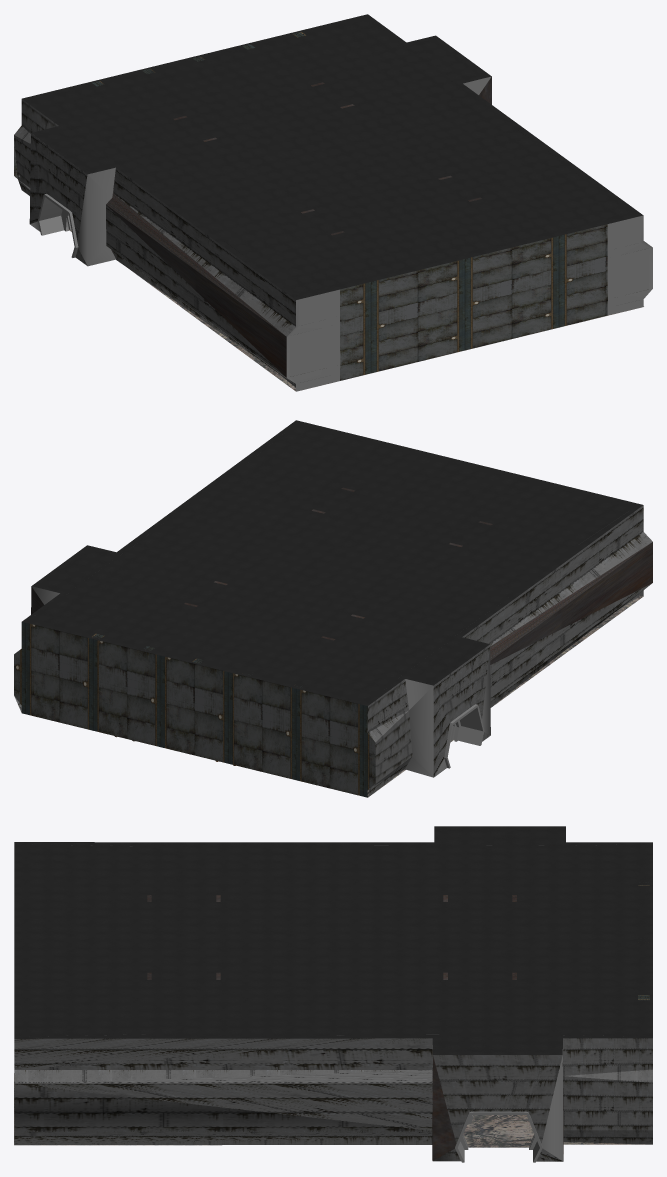
The model's file is mantenimiento.obj.
3 views of the same model, one above another, from view 1: azimuth 30°, elevation 25°; view 2: azimuth 150°, elevation 25°; view 3: azimuth 270°, elevation 25° (orthographic). The views are drawn at different scales.
Parts seen in each view (by area): view 1: mantenimiento1:polySurface2189, mantenimiento1:polySurface2, mantenimiento1:polySurface10, mantenimiento1:polySurface163, mantenimiento1:pPlane1; view 2: mantenimiento1:polySurface2189, mantenimiento1:polySurface7, mantenimiento1:polySurface10, mantenimiento1:polySurface163, mantenimiento1:pPlane1; view 3: mantenimiento1:polySurface2189, mantenimiento1:polySurface3, mantenimiento1:pPlane1, mantenimiento1:polySurface163.
Part boxes in pixels (x1,y1,x2,y2): mantenimiento1:polySurface2189: (22,14,643,299); mantenimiento1:polySurface2: (286,215,652,391); mantenimiento1:polySurface10: (14,99,295,387); mantenimiento1:polySurface163: (38,194,78,257); mantenimiento1:pPlane1: (24,192,643,391); mantenimiento1:polySurface2189: (22,420,642,705); mantenimiento1:polySurface7: (14,622,375,797); mantenimiento1:polySurface10: (367,505,652,797); mantenimiento1:polySurface163: (444,704,484,768); mantenimiento1:pPlane1: (367,595,642,796); mantenimiento1:polySurface2189: (14,826,652,1054); mantenimiento1:polySurface3: (14,1034,652,1161); mantenimiento1:pPlane1: (14,1073,644,1147); mantenimiento1:polySurface163: (455,1111,542,1162).
Bounding box in the file's own units: 120 × 26.36 × 140.
